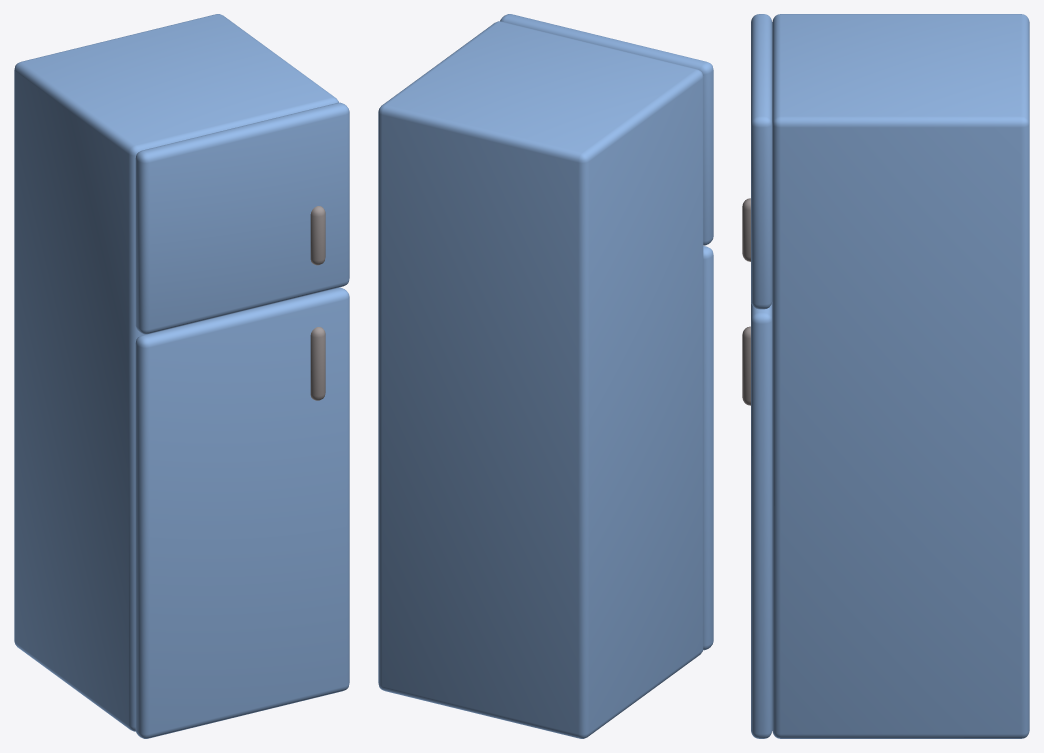
The model's file is holodilnik_60x60x160_1.glb.
The picture shows the model from 3 angles, left to right: view 1: azimuth 30°, elevation 25°; view 2: azimuth 150°, elevation 25°; view 3: azimuth 270°, elevation 25°; orthographic projection. The views are drawn at different scales.
Visible parts, largest first — view 1: Cube.059; view 2: Cube.059; view 3: Cube.059.
Part boxes in pixels (x1,y1,x2,y2): Cube.059: (14,14,349,738); Cube.059: (378,14,713,738); Cube.059: (742,14,1029,738).
Bounding box in the file's own units: 0.6 × 1.6 × 0.67.
